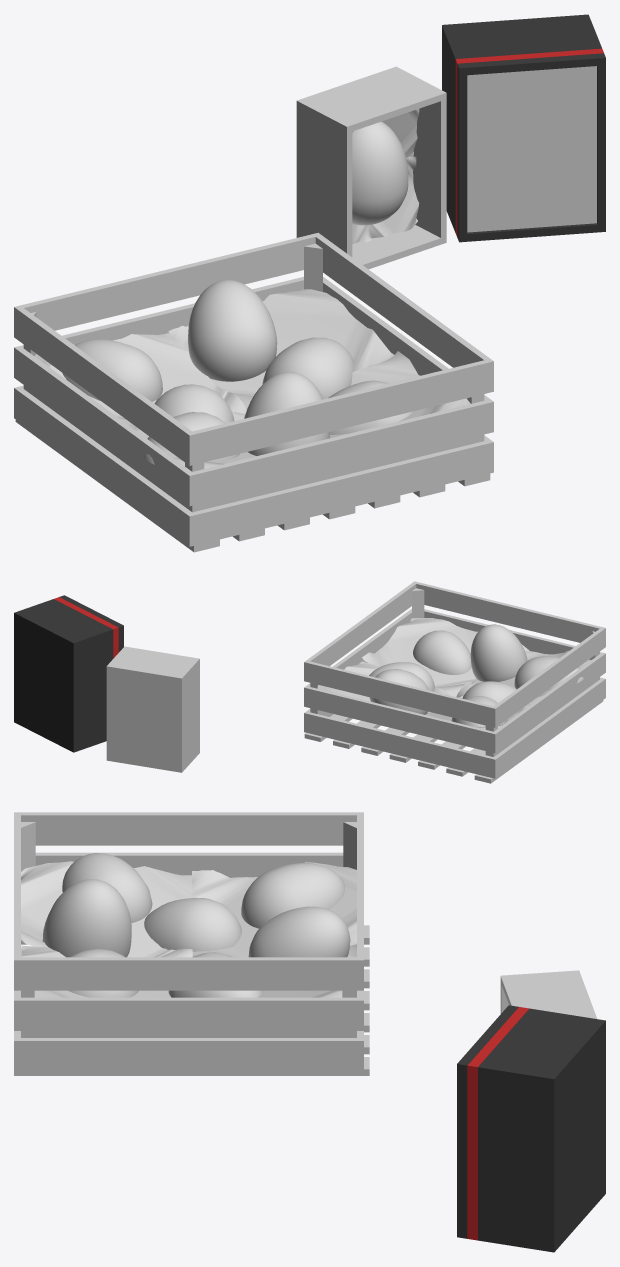
3 views of the same model, one above another, from view 1: azimuth 30°, elevation 25°; view 2: azimuth 150°, elevation 25°; view 3: azimuth 270°, elevation 25° (orthographic). The views are drawn at different scales.
Parts seen in each view (by area): view 1: Group_038, Group_040, Group_037, Group_010, Group_007, Group_020, Group_024, Group_025, Group_002, Group_009, Group_026, Group_022 (+14 smaller); view 2: Group_037, Group_040, Group_010, Group_021, Group_025, Group_008, Group_024, Group_003, Group_009, Group_026, Group_022, Group_023 (+11 smaller); view 3: Group_037, Group_023, Group_019, Group_006, Group_010, Group_026, Group_003, Group_022, Group_001, Group_002, Group_034, Group_040 (+9 smaller).
Part boxes in pixels (box(x1,y1,x2,y2)): Group_038: box(467, 66, 596, 232); Group_040: box(296, 66, 446, 269); Group_037: box(442, 14, 605, 242); Group_010: box(35, 289, 470, 468); Group_007: box(186, 439, 493, 546); Group_020: box(186, 399, 493, 506); Group_024: box(186, 358, 493, 465); Group_025: box(14, 232, 321, 339); Group_002: box(188, 280, 277, 381); Group_009: box(17, 389, 191, 543); Group_026: box(17, 308, 191, 462); Group_022: box(17, 348, 191, 503); Group_037: box(14, 595, 123, 752); Group_040: box(106, 646, 199, 772); Group_010: box(317, 618, 592, 729); Group_021: box(304, 686, 497, 753); Group_025: box(304, 660, 497, 727); Group_008: box(304, 711, 497, 778); Group_024: box(412, 581, 605, 648); Group_003: box(470, 624, 527, 681); Group_009: box(494, 679, 603, 776); Group_026: box(494, 629, 603, 725); Group_022: box(494, 654, 603, 751); Group_023: box(306, 583, 416, 666); Group_037: box(457, 1005, 605, 1252); Group_023: box(21, 957, 356, 990); Group_019: box(21, 997, 356, 1030); Group_006: box(21, 1038, 356, 1071); Group_010: box(21, 861, 356, 997); Group_026: box(21, 812, 356, 845); Group_003: box(42, 879, 131, 957); Group_022: box(35, 852, 343, 877); Group_001: box(241, 863, 345, 928); Group_002: box(248, 906, 350, 957); Group_034: box(144, 897, 241, 951); Group_040: box(500, 970, 597, 1018).
Size of the model in its own units: 0.6624 by 0.1668 by 0.5073.
